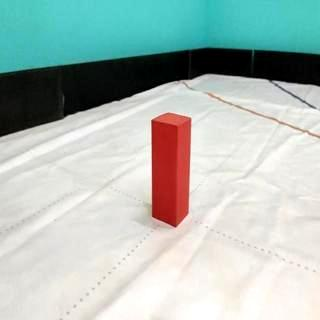redbox: (150, 111, 192, 228)
